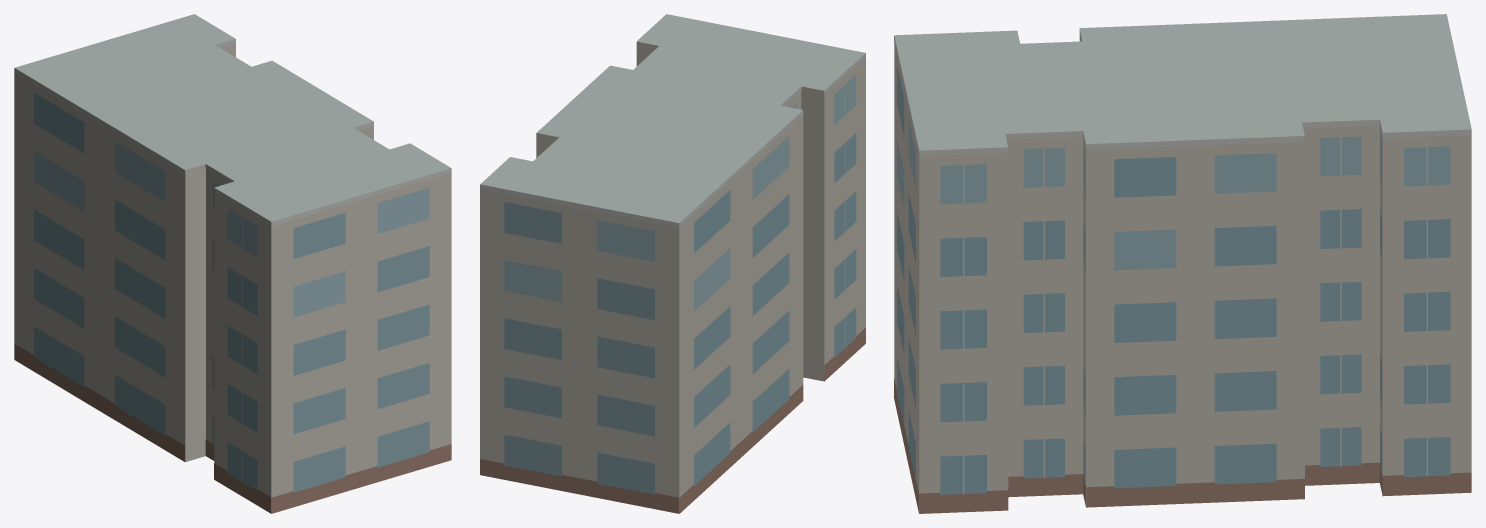
Rendered from survey-upis-32940240.glb.
The picture shows the model from 3 angles, left to right: view 1: azimuth 30°, elevation 25°; view 2: azimuth 150°, elevation 25°; view 3: azimuth 270°, elevation 25°; orthographic projection. The views are drawn at different scales.
Visible parts, largest first — view 1: survey-upis-32940240.tmp; view 2: survey-upis-32940240.tmp; view 3: survey-upis-32940240.tmp.
Part boxes in pixels (x1,y1,x2,y2): survey-upis-32940240.tmp: (14, 14, 451, 513); survey-upis-32940240.tmp: (480, 14, 865, 513); survey-upis-32940240.tmp: (894, 14, 1471, 513).
Bounding box in the file's own units: 12.31 × 15.25 × 21.99.
